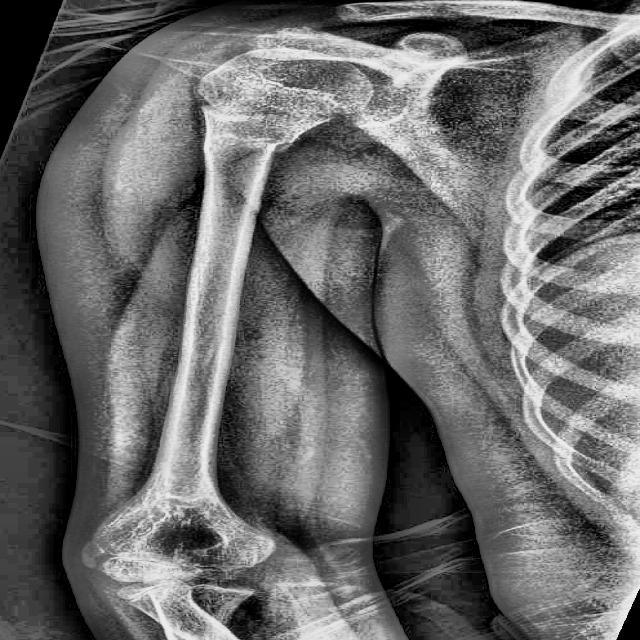line: (223, 142, 285, 214)
